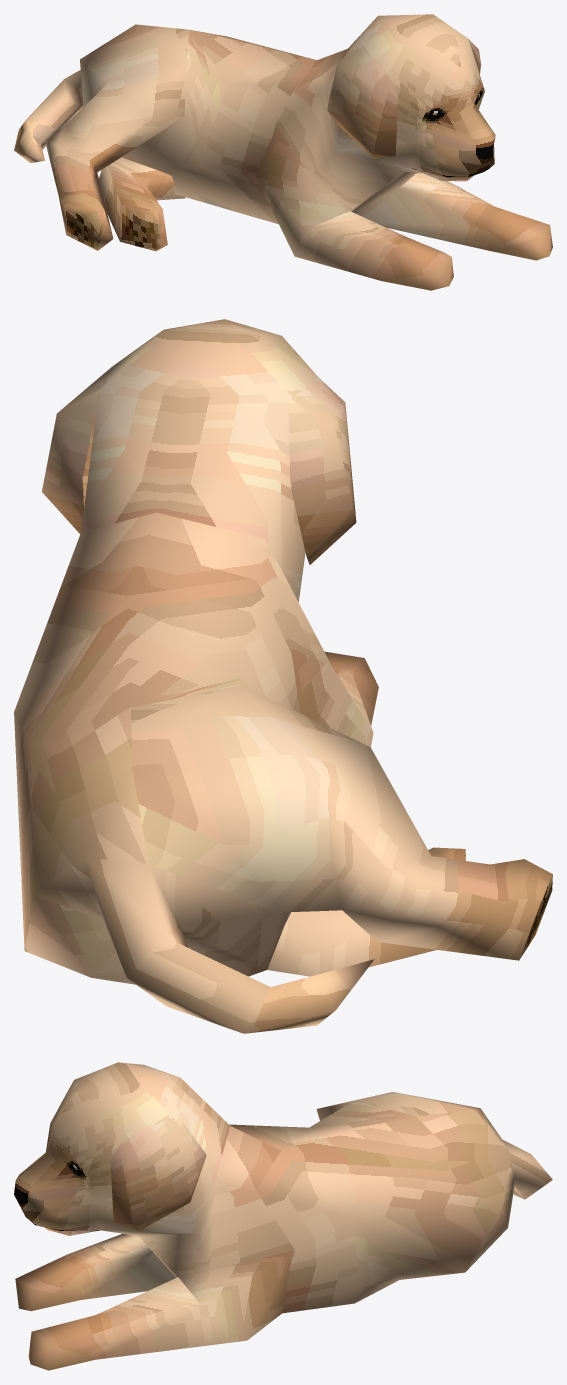
File: labrador.glb
3 views of the same model, one above another, from view 1: azimuth 30°, elevation 25°; view 2: azimuth 150°, elevation 25°; view 3: azimuth 270°, elevation 25° (orthographic). The views are drawn at different scales.
Visible parts, largest first — view 1: Mdl_0_Mtl_df_m; view 2: Mdl_0_Mtl_df_m; view 3: Mdl_0_Mtl_df_m.
Part boxes in pixels (<box>): Mdl_0_Mtl_df_m: <box>14,14,552,290</box>; Mdl_0_Mtl_df_m: <box>14,319,552,1033</box>; Mdl_0_Mtl_df_m: <box>14,1062,552,1370</box>.
Size of the model in its own units: 23.93 by 13.99 by 27.91.
Materials: 1 (1 with a texture image).
